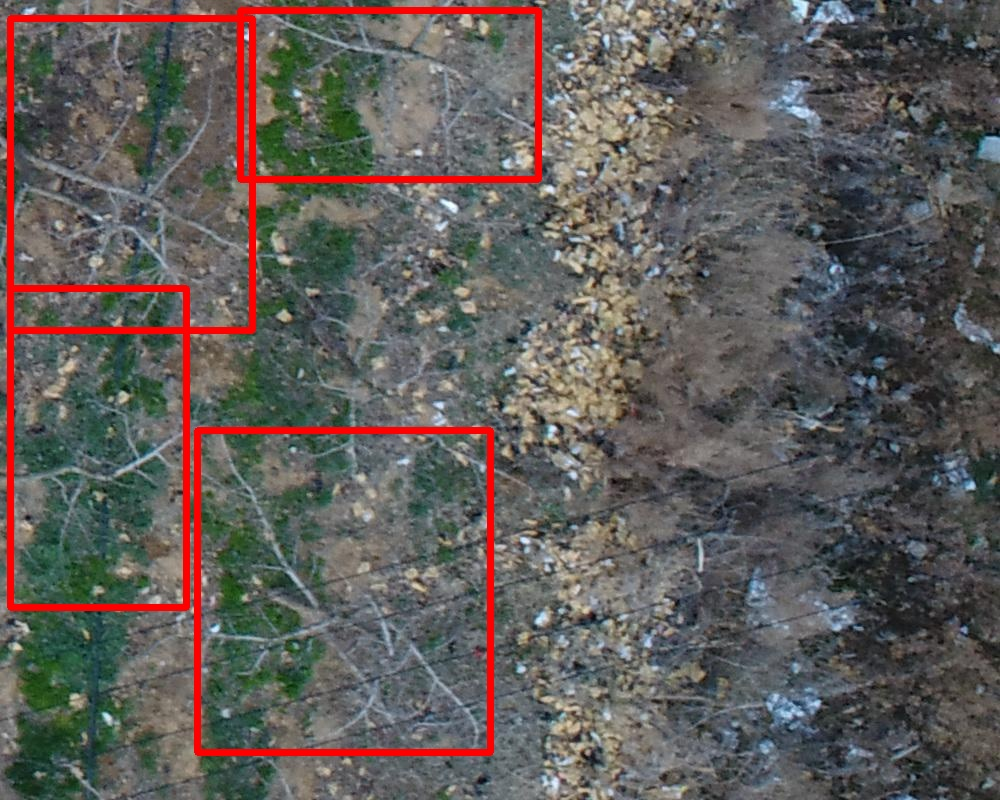apple: (197, 430, 490, 752), (10, 18, 252, 330), (10, 288, 186, 607), (240, 10, 538, 179)
